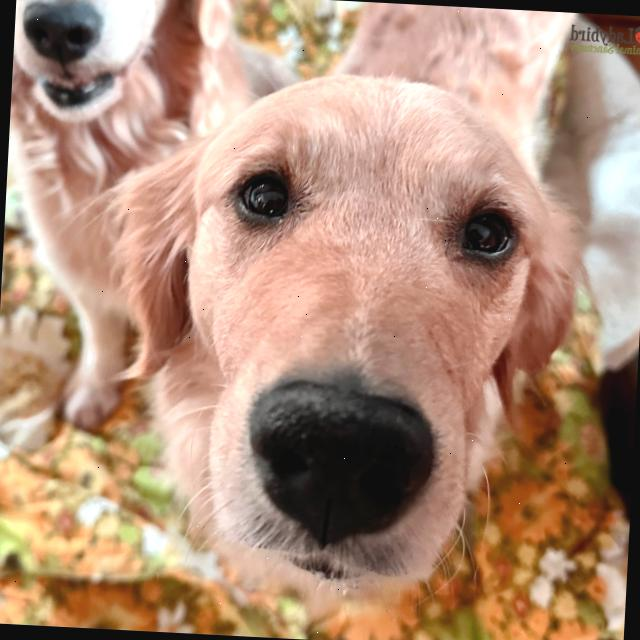golden_retriever_dog: (76, 55, 600, 630)
